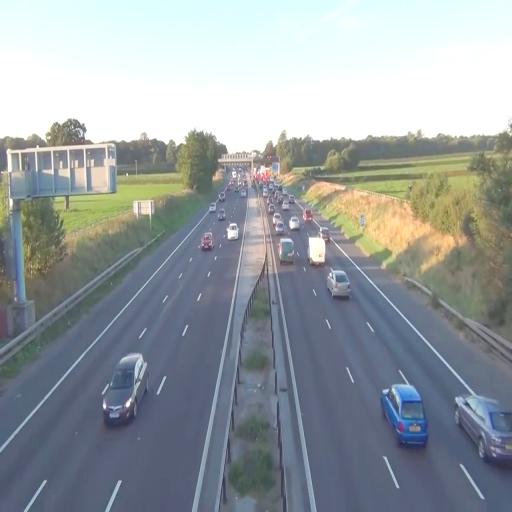vehicle: (454, 393, 512, 465), (102, 352, 148, 426), (381, 383, 428, 448), (326, 267, 352, 299), (279, 238, 295, 267), (200, 231, 213, 250), (226, 222, 239, 240), (289, 216, 302, 232)
